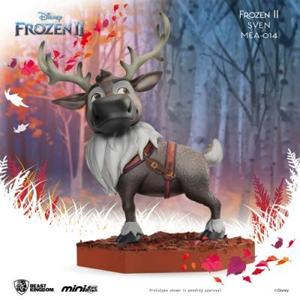sven: (32, 34, 239, 241)
